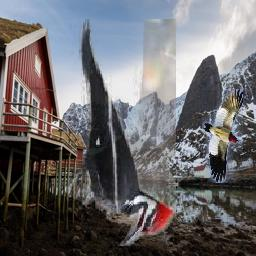Woodpecker: (66, 20, 176, 247), (203, 89, 244, 183)
